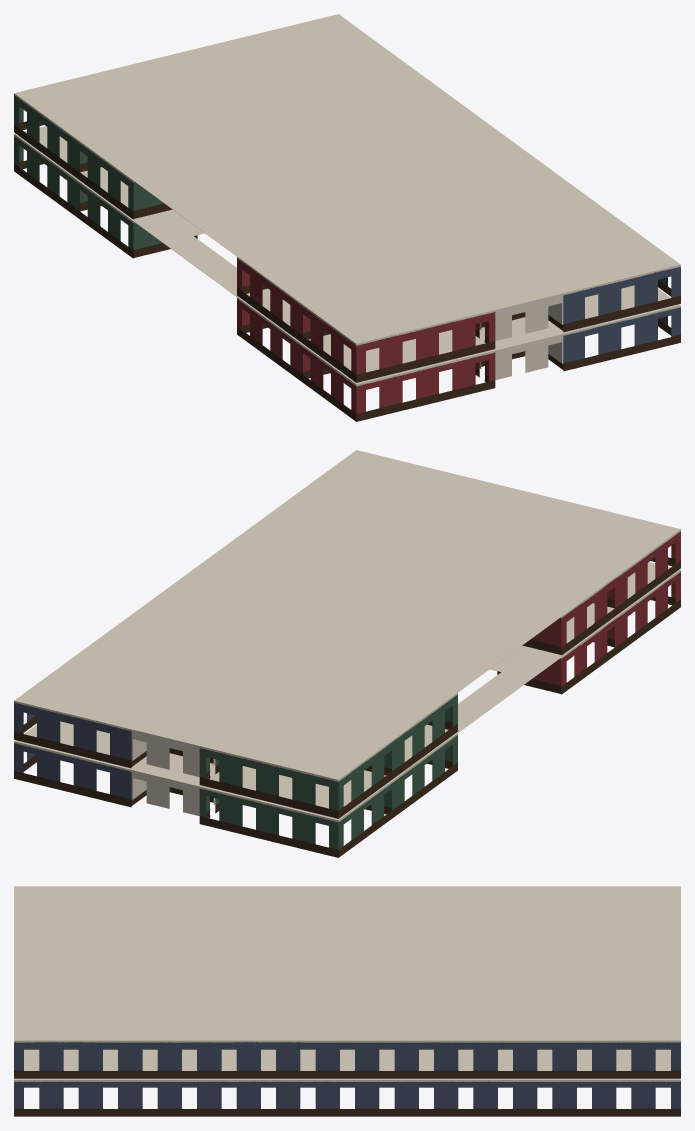
The model's file is SM_Malikane_Ic_Kaplama.fbx.
3 views of the same model, one above another, from view 1: azimuth 30°, elevation 25°; view 2: azimuth 150°, elevation 25°; view 3: azimuth 270°, elevation 25° (orthographic). The views are drawn at different scales.
Visible parts, largest first — view 1: Malikane_Ic_Kaplama; view 2: Malikane_Ic_Kaplama; view 3: Malikane_Ic_Kaplama.
Part boxes in pixels (left/top/right/bottom): Malikane_Ic_Kaplama: left=14, top=14, right=680, bottom=421; Malikane_Ic_Kaplama: left=14, top=450, right=680, bottom=857; Malikane_Ic_Kaplama: left=14, top=886, right=680, bottom=1116.
Size of the model in its own units: 4350 by 1000 by 7950.
